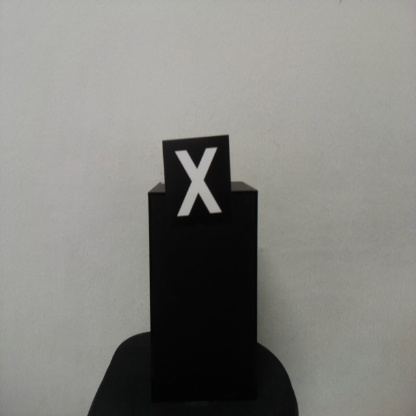id_13: (162, 140, 233, 236)
